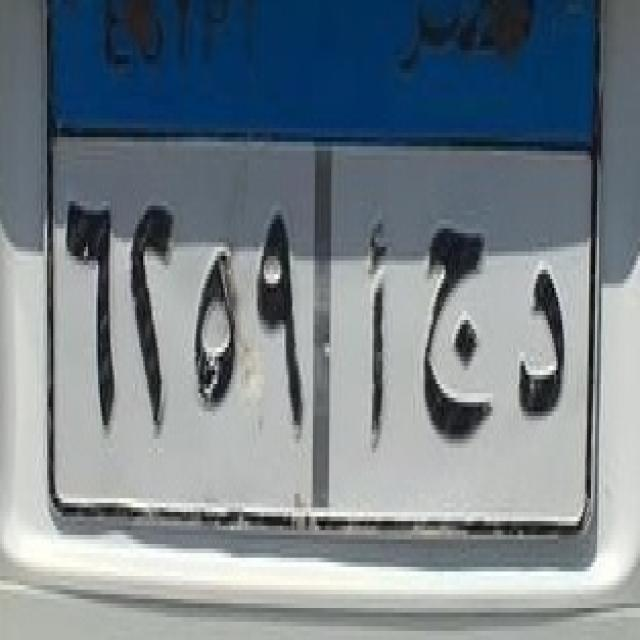2: (121, 190, 182, 446)
5: (185, 240, 249, 422)
6: (60, 188, 130, 446)
9: (250, 200, 314, 452)
alef: (344, 194, 404, 476)
daal: (511, 260, 578, 434)
geem: (411, 225, 504, 454)
